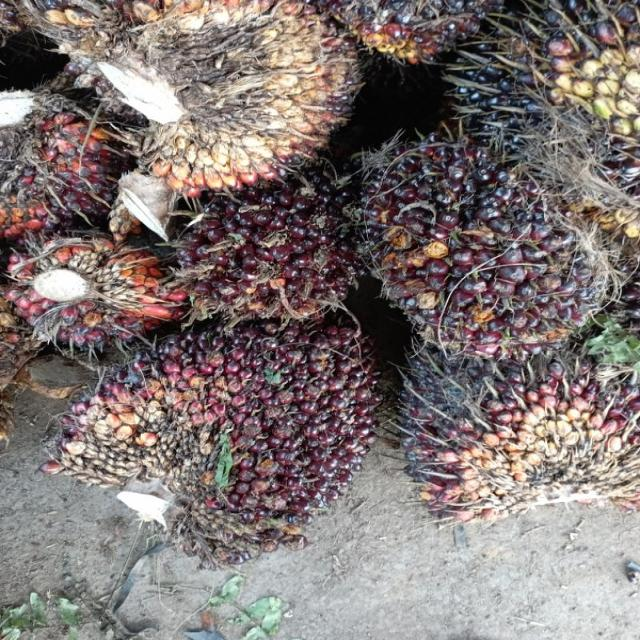fraksi 00: (361, 138, 610, 356), (388, 340, 640, 524)
fraksi 1: (88, 324, 378, 544), (184, 190, 375, 330)
